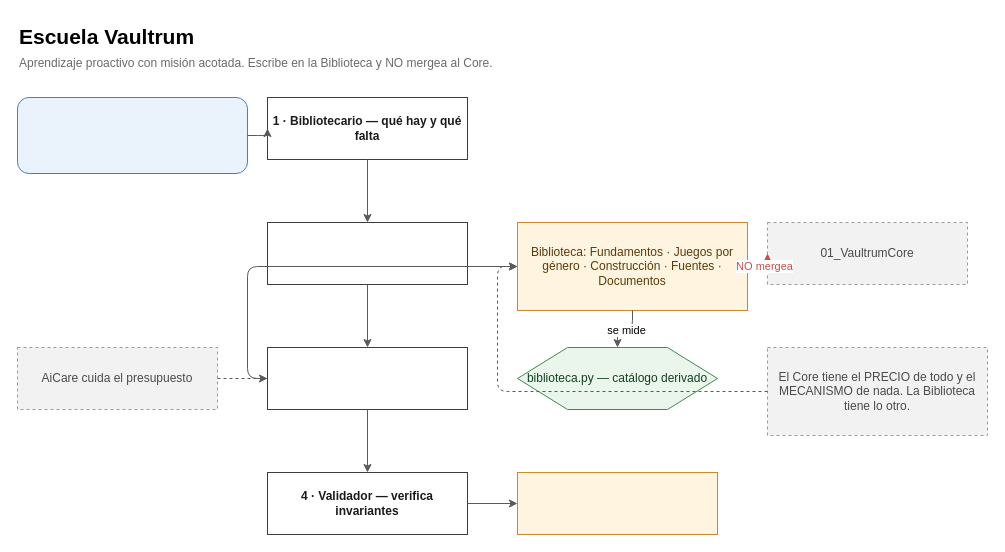
The diagram is 1005 pixels wide and 552 high, and some of its shapes have lost their labels. The shapes that lost their labels are listed below. From the top down, each one's centre as x and y in pixels, then its label:
At (132,135): "Misión acotada: gap declarado + presupuesto + barra".
At (367,253): "2 · Investigador — trae la fuente".
At (367,378): "3 · Destilador — escribe la ficha".
At (617,503): "EST-XXX — la misión registrada".
